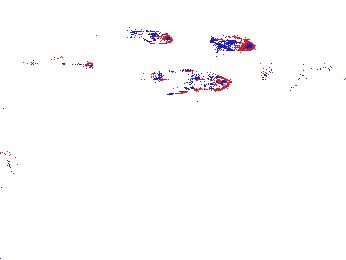X-ray fish: (102, 160, 130, 202)
red belly glassfish: (208, 30, 255, 55), (130, 27, 173, 47)
redtail glassfish: (144, 61, 232, 97), (256, 58, 333, 93), (22, 51, 94, 73)
